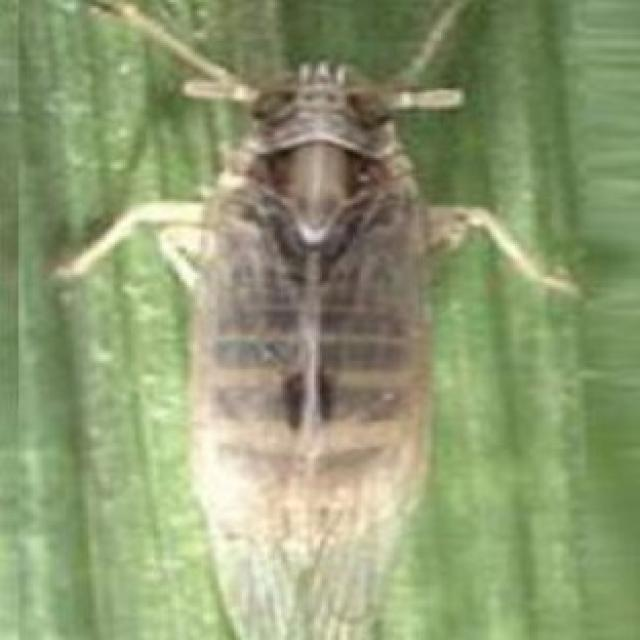brown plant hopper: (57, 0, 572, 638)
